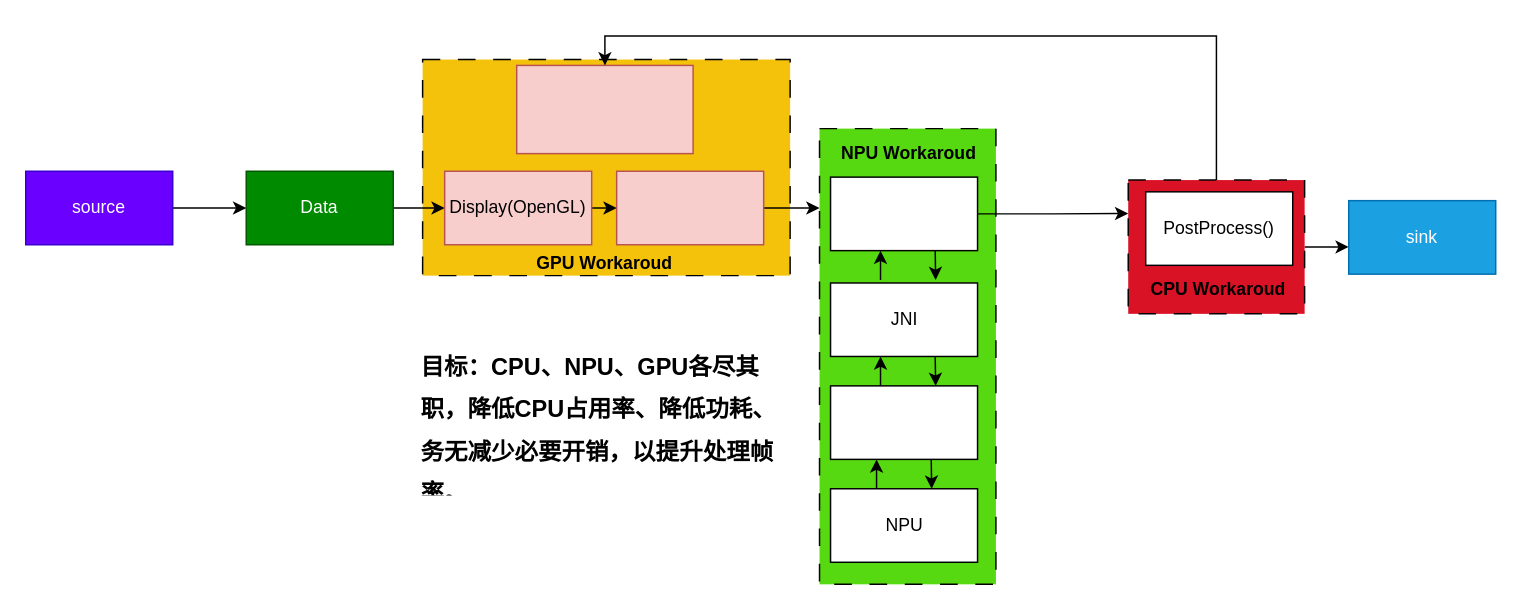
Some shapes in this 1521 by 610 pixel diagram are drawn without their labels. Here are the shapes that lost their labels. From the top down, the box of each, then its label:
(515, 64, 693, 154): MainUI
(615, 170, 764, 245): ProProcess()
(829, 176, 978, 251): Inference()
(829, 384, 978, 459): RKNNSDK
